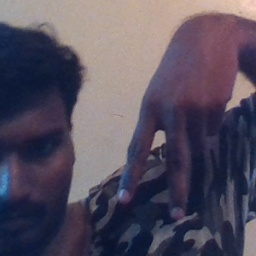Y: (108, 81, 215, 229)
